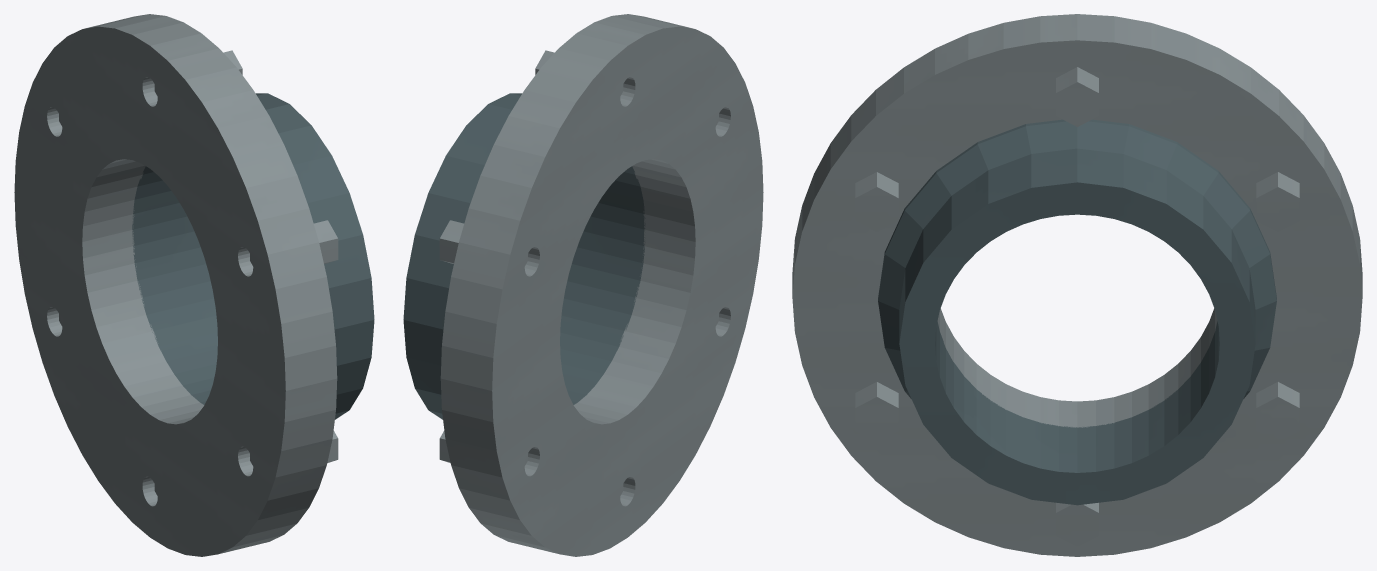
Rendered from utility_flange_exact_profile_baseline.glb.
3 views of the same model, side by side, from view 1: azimuth 30°, elevation 25°; view 2: azimuth 150°, elevation 25°; view 3: azimuth 270°, elevation 25° (orthographic). The views are drawn at different scales.
Parts seen in each view (by area): view 1: utility_flange_exact_profile_baseline__staff_zinc, utility_flange_exact_profile_baseline__staff_bluegrey_paint; view 2: utility_flange_exact_profile_baseline__staff_zinc, utility_flange_exact_profile_baseline__staff_bluegrey_paint; view 3: utility_flange_exact_profile_baseline__staff_zinc, utility_flange_exact_profile_baseline__staff_bluegrey_paint.
Boxes of the visible parts, x1,y1,x2,y2 form: utility_flange_exact_profile_baseline__staff_zinc: (14, 14, 338, 556); utility_flange_exact_profile_baseline__staff_bluegrey_paint: (132, 93, 374, 419); utility_flange_exact_profile_baseline__staff_zinc: (439, 14, 763, 556); utility_flange_exact_profile_baseline__staff_bluegrey_paint: (403, 93, 645, 419); utility_flange_exact_profile_baseline__staff_zinc: (792, 14, 1362, 556); utility_flange_exact_profile_baseline__staff_bluegrey_paint: (878, 119, 1276, 505).
Size of the model in its own units: 0.095 by 0.32 by 0.32.
2 materials, 2 textured.
